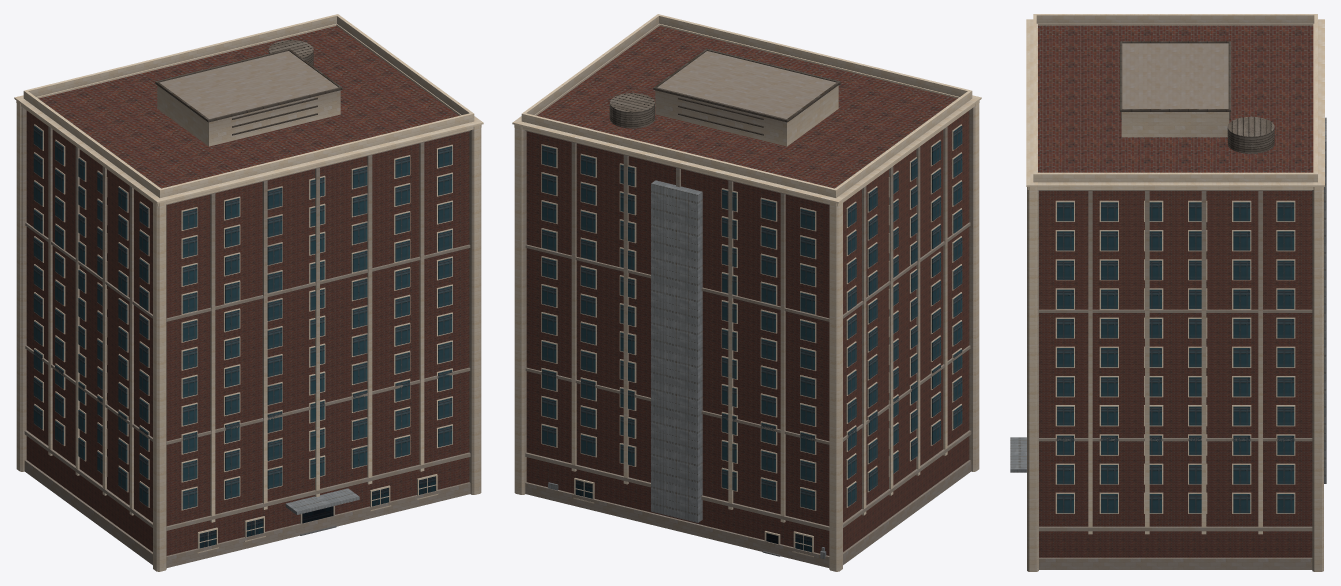
Rendered from brick-office-block_lod0.gltf.
3 renders of one model, left to right at view 1: azimuth 30°, elevation 25°; view 2: azimuth 150°, elevation 25°; view 3: azimuth 270°, elevation 25°, orthographic. The views are drawn at different scales.
Parts seen in each view (by area): view 1: brick-office-block_main, brick-office-block__v4_stone_detail, brick-office-block_fen_07-glass-curtain-blue_1, brick-office-block_fen_04-limestone_0, brick-office-block__v4_metal_detail, brick-office-block__marquee, brick-office-block__water_tank; view 2: brick-office-block_main, brick-office-block__v4_stone_detail, brick-office-block_fen_07-glass-curtain-blue_1, brick-office-block__fire_escape, brick-office-block_fen_04-limestone_0, brick-office-block__v4_metal_detail, brick-office-block__water_tank; view 3: brick-office-block_main, brick-office-block__v4_stone_detail, brick-office-block_fen_07-glass-curtain-blue_1, brick-office-block_fen_04-limestone_0, brick-office-block__water_tank, brick-office-block__v4_metal_detail, brick-office-block__fire_escape, brick-office-block__marquee.
Boxes of the visible parts, bbox=[...] form: brick-office-block_main: bbox=[26, 26, 469, 555]; brick-office-block__v4_stone_detail: bbox=[14, 14, 483, 571]; brick-office-block_fen_07-glass-curtain-blue_1: bbox=[33, 126, 452, 548]; brick-office-block_fen_04-limestone_0: bbox=[34, 124, 452, 553]; brick-office-block__v4_metal_detail: bbox=[155, 49, 342, 135]; brick-office-block__marquee: bbox=[285, 488, 359, 514]; brick-office-block__water_tank: bbox=[268, 40, 313, 65]; brick-office-block_main: bbox=[526, 26, 969, 555]; brick-office-block__v4_stone_detail: bbox=[512, 14, 981, 571]; brick-office-block_fen_07-glass-curtain-blue_1: bbox=[542, 126, 962, 552]; brick-office-block__fire_escape: bbox=[651, 180, 702, 522]; brick-office-block_fen_04-limestone_0: bbox=[541, 124, 961, 557]; brick-office-block__v4_metal_detail: bbox=[653, 49, 840, 135]; brick-office-block__water_tank: bbox=[609, 93, 654, 128]; brick-office-block_main: bbox=[1038, 25, 1313, 557]; brick-office-block__v4_stone_detail: bbox=[1026, 14, 1324, 571]; brick-office-block_fen_07-glass-curtain-blue_1: bbox=[1057, 202, 1294, 513]; brick-office-block_fen_04-limestone_0: bbox=[1055, 200, 1295, 513]; brick-office-block__water_tank: bbox=[1227, 116, 1274, 153]; brick-office-block__v4_metal_detail: bbox=[1120, 41, 1230, 119]; brick-office-block__fire_escape: bbox=[1324, 117, 1326, 483]; brick-office-block__marquee: bbox=[1010, 437, 1026, 472].
Bounding box in the file's own units: 41.6 × 48.32 × 33.5.
